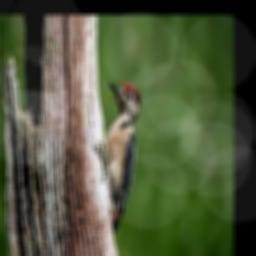Woodpecker: (104, 83, 140, 234)
